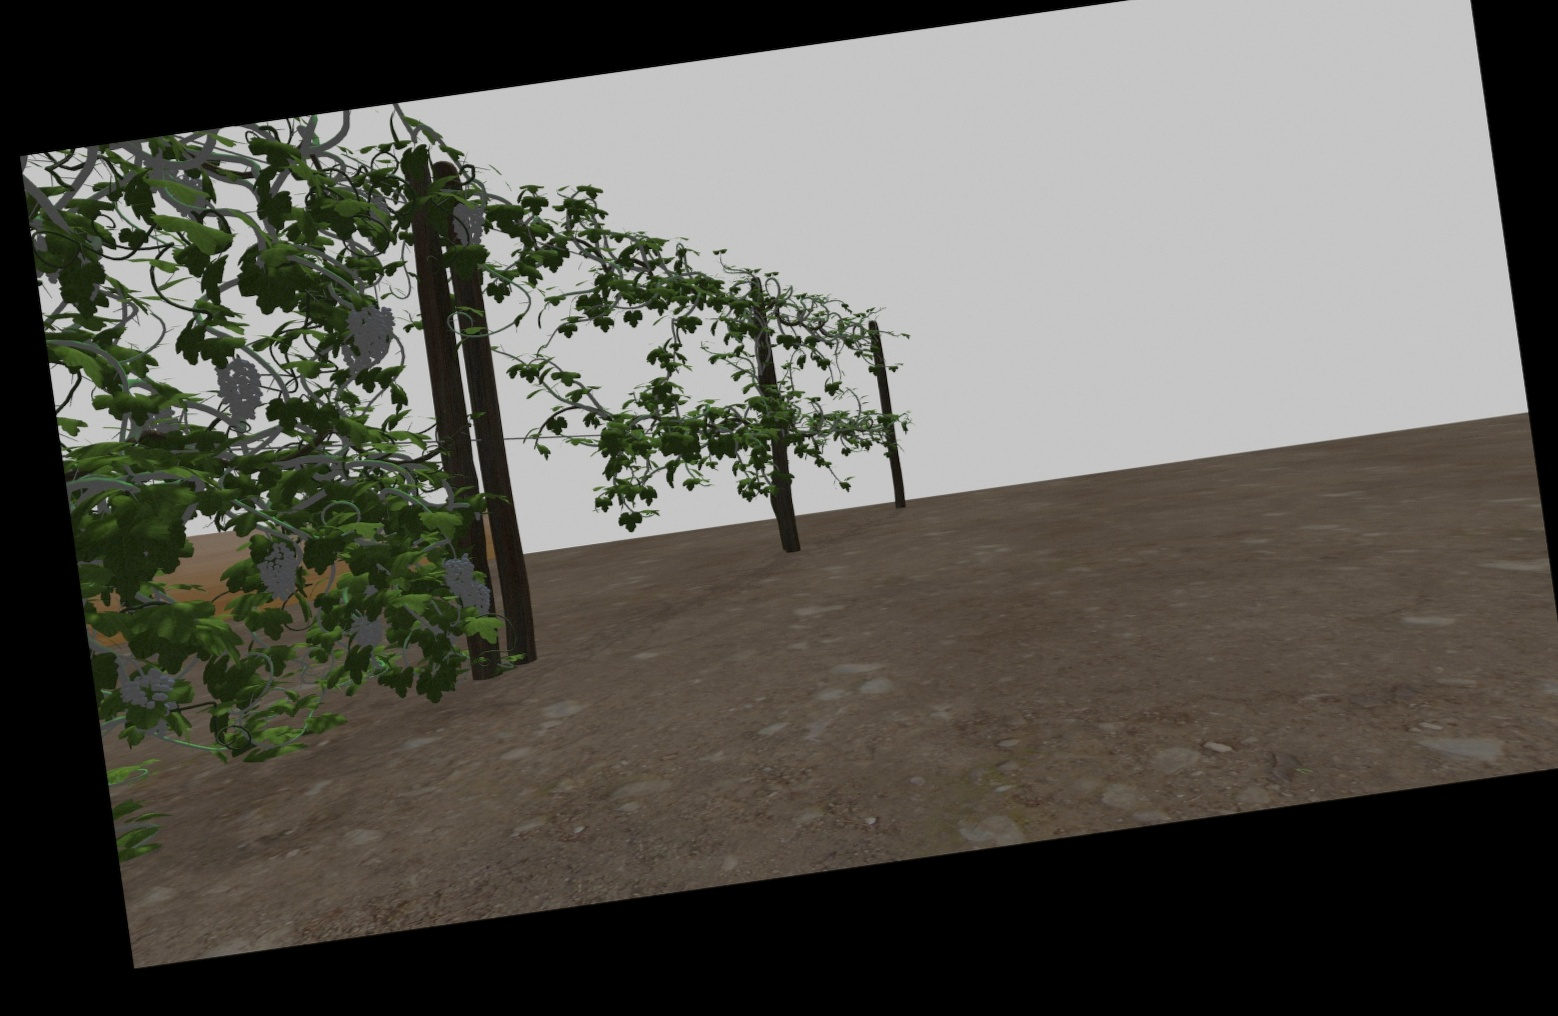grape: (347, 304, 397, 366), (258, 541, 300, 606), (221, 359, 263, 421), (119, 667, 175, 709), (452, 201, 486, 247), (444, 555, 475, 597), (353, 614, 384, 652), (462, 583, 492, 619)
